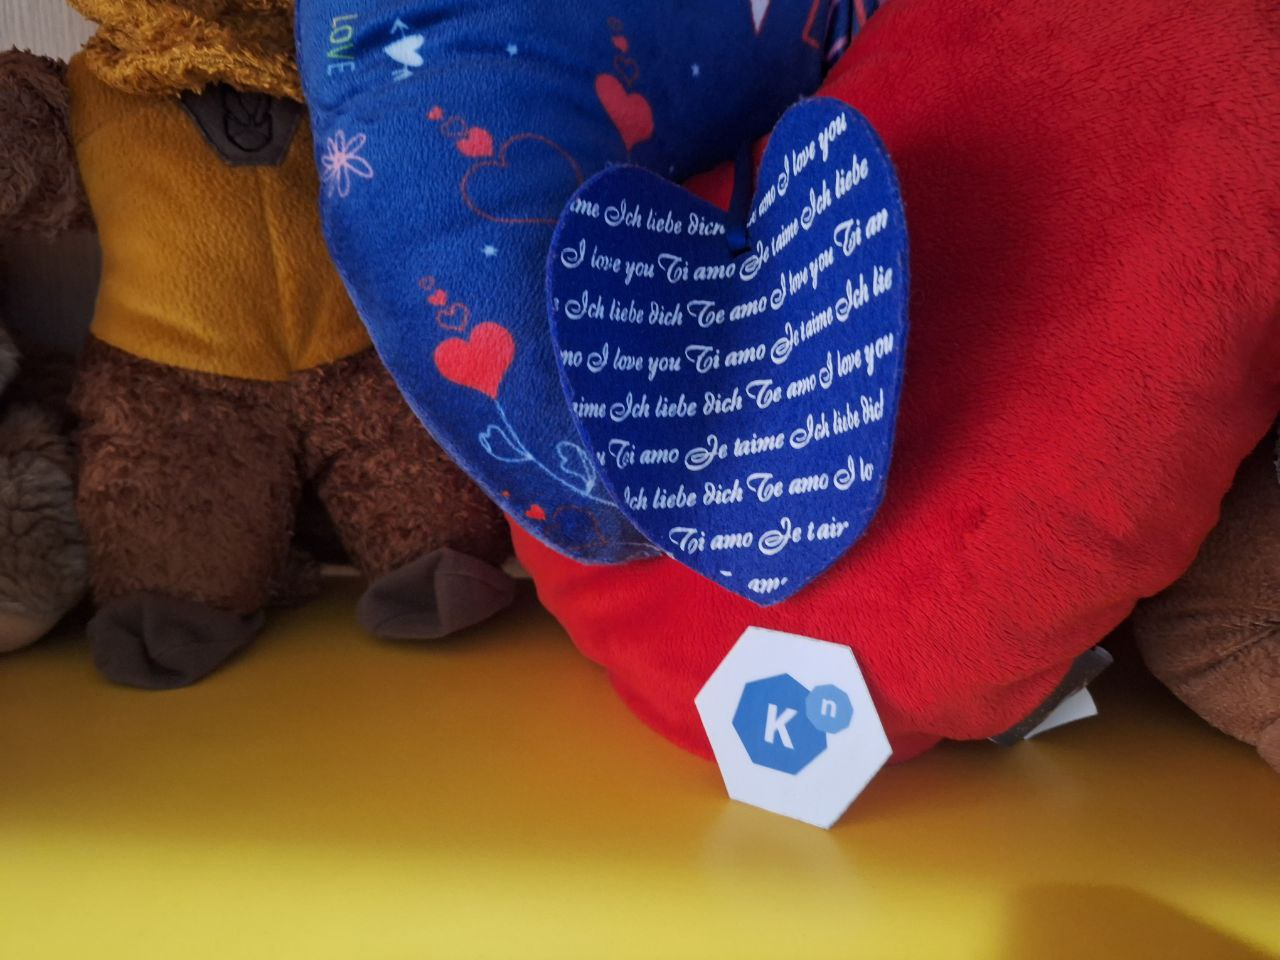knative: (731, 670, 855, 781)
